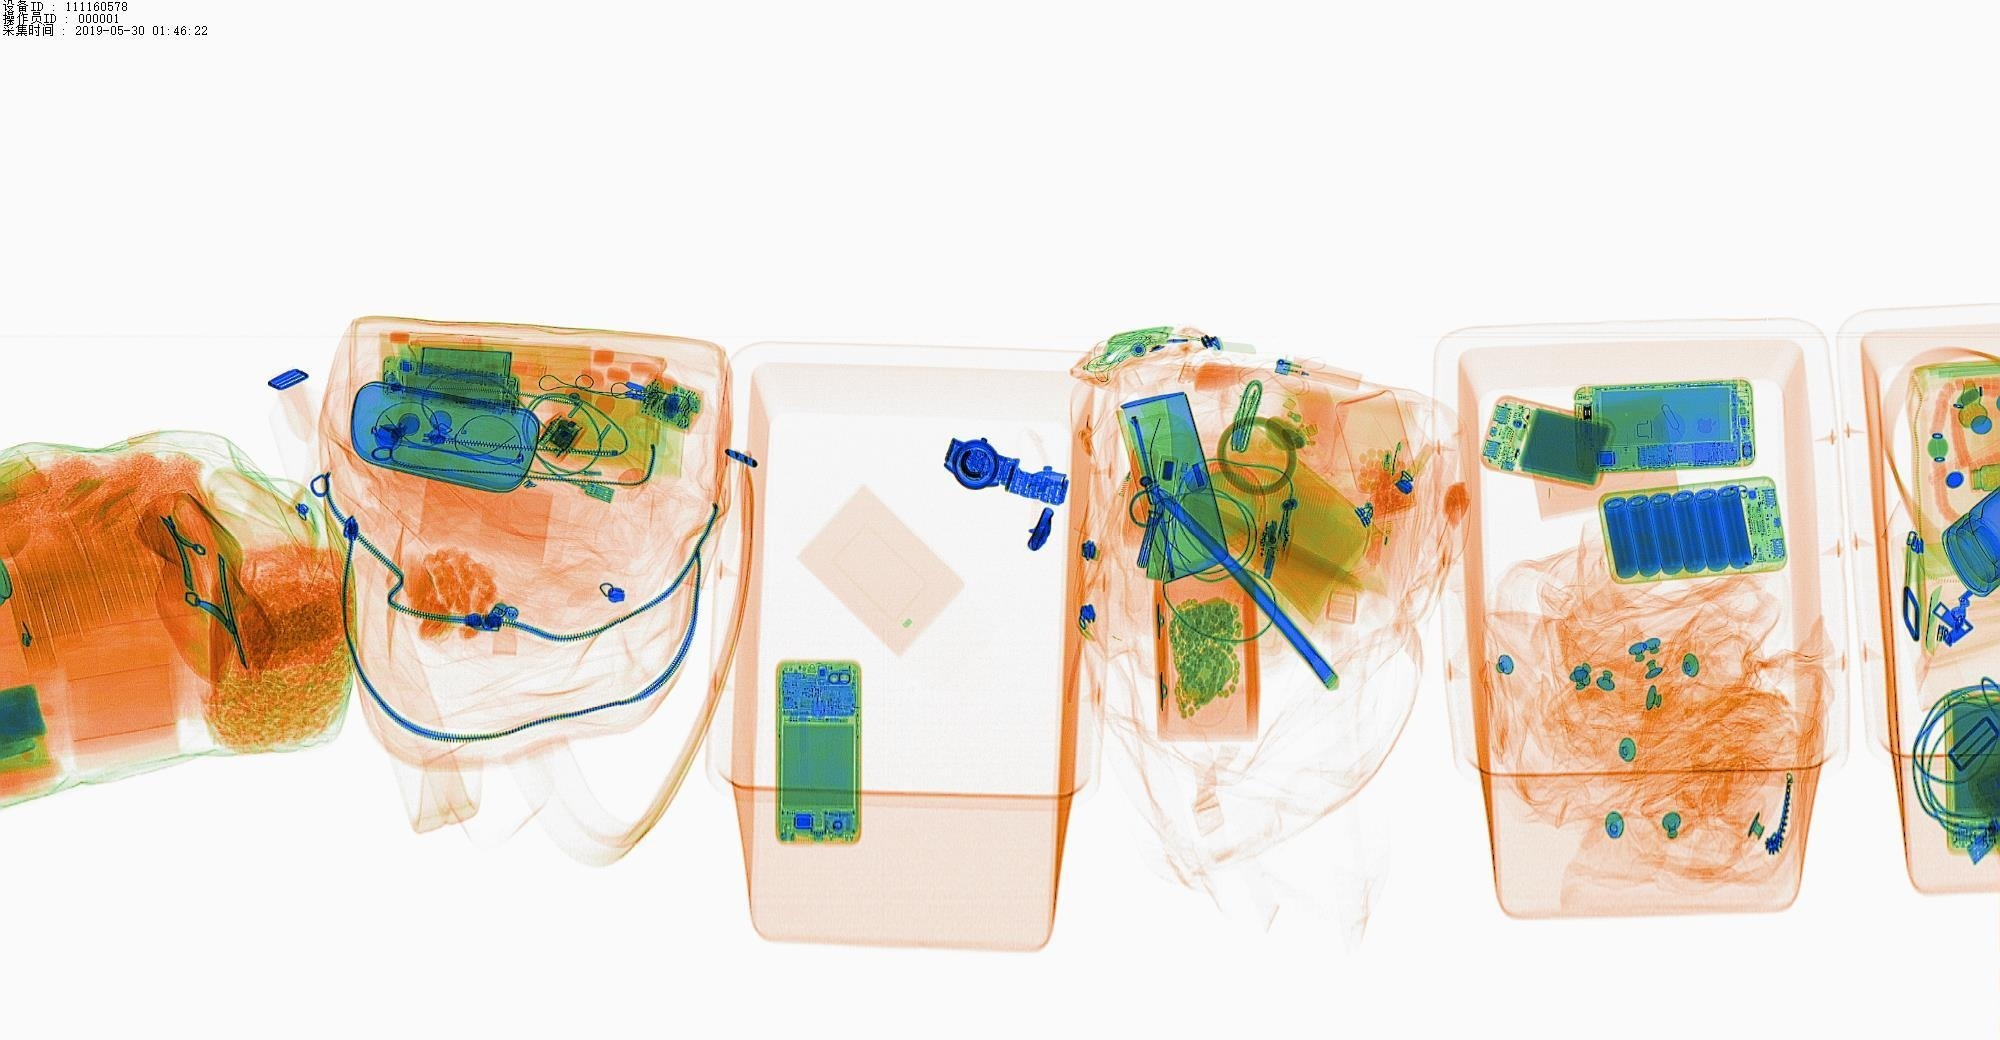NonmetallicFire: (1258, 335, 1380, 406)
